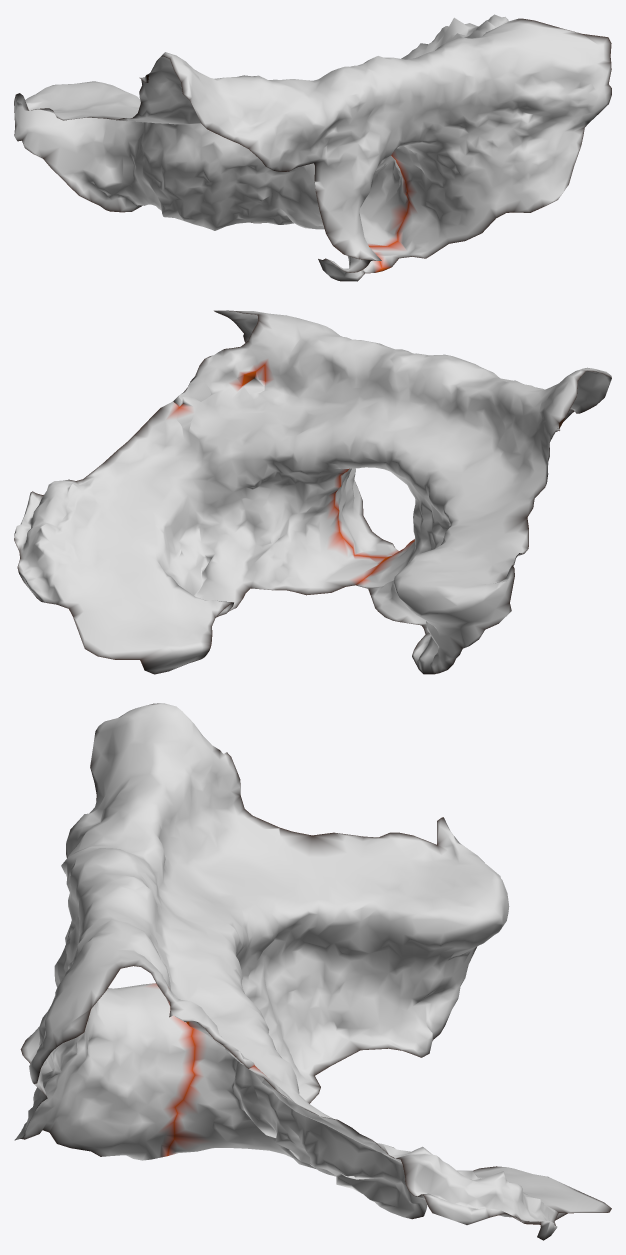
Rendered from SM_Center_Tunnel.fbx.
3 views of the same model, one above another, from view 1: azimuth 30°, elevation 25°; view 2: azimuth 150°, elevation 25°; view 3: azimuth 270°, elevation 25° (orthographic). The views are drawn at different scales.
Visible parts, largest first — view 1: PM3D_Cube3D1_10_SeamsColor; view 2: PM3D_Cube3D1_10_SeamsColor; view 3: PM3D_Cube3D1_10_SeamsColor.
Part boxes in pixels (x1=…): PM3D_Cube3D1_10_SeamsColor: x1=14, y1=14, x2=611, y2=281; PM3D_Cube3D1_10_SeamsColor: x1=14, y1=310, x2=611, y2=674; PM3D_Cube3D1_10_SeamsColor: x1=14, y1=703, x2=611, y2=1240.
Bounding box in the file's own units: 2191 × 1125 × 1762.
